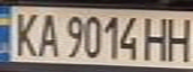0: (81, 11, 103, 60)
1: (103, 12, 121, 61)
4: (118, 12, 142, 61)
9: (60, 11, 84, 58)
A: (33, 9, 60, 58)
H: (139, 14, 172, 62), (163, 14, 193, 62)
K: (6, 8, 42, 57)
